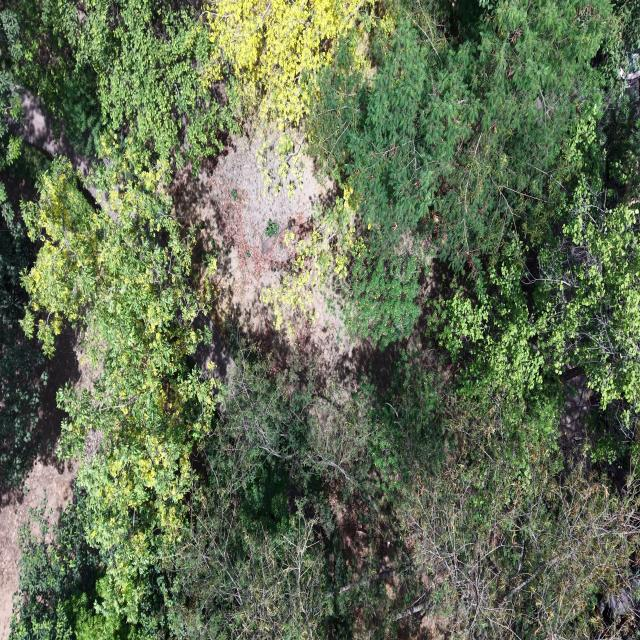DRY_AREA: (173, 137, 407, 476), (172, 137, 397, 475), (173, 138, 455, 393), (173, 138, 455, 392), (174, 138, 455, 390), (172, 136, 453, 386), (172, 137, 406, 403), (172, 136, 425, 381), (171, 136, 405, 390), (172, 137, 393, 405), (171, 137, 405, 387), (169, 135, 393, 381), (169, 135, 390, 378), (171, 137, 383, 390), (169, 136, 392, 373), (171, 136, 371, 374), (170, 136, 371, 369), (171, 136, 327, 336), (0, 331, 94, 639), (0, 336, 95, 639), (0, 336, 94, 639), (0, 335, 92, 639), (0, 337, 92, 639), (0, 459, 76, 639), (19, 92, 90, 176), (559, 368, 598, 477), (187, 315, 233, 383), (561, 370, 592, 455)
VEGETATION_TREE: (0, 0, 639, 639), (312, 2, 620, 346), (23, 160, 217, 637), (431, 56, 638, 443), (401, 394, 639, 638), (6, 0, 233, 183), (202, 0, 372, 195), (0, 8, 45, 488), (205, 0, 367, 130), (12, 491, 122, 639), (0, 150, 46, 487), (4, 0, 100, 155)
